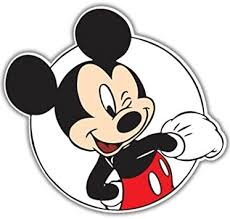mickey: (4, 8, 224, 211)
